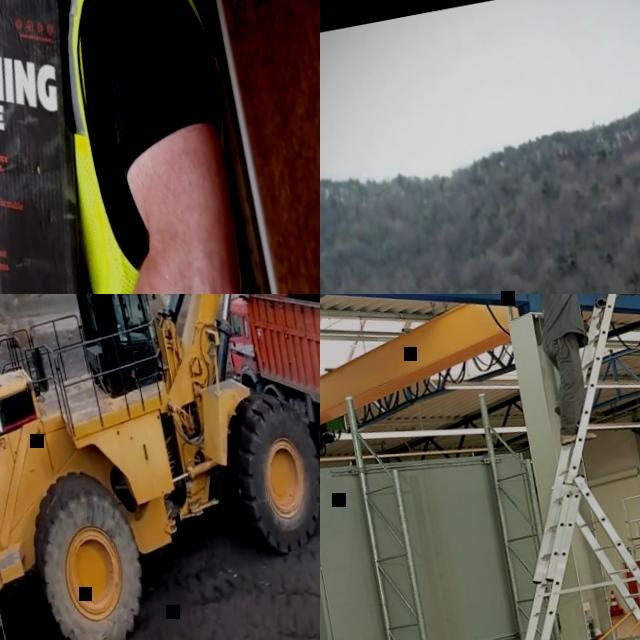NO-Safety Vest: (533, 294, 586, 344), (111, 296, 125, 329)
Person: (0, 0, 288, 294), (517, 294, 640, 446), (109, 294, 153, 359)
Safety Vest: (1, 0, 287, 294)
machinery: (0, 294, 320, 640), (207, 294, 320, 516)
